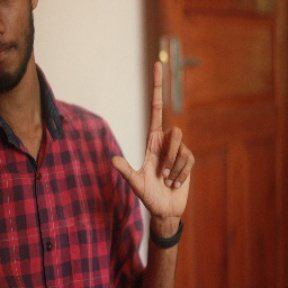L: (109, 61, 198, 208)
